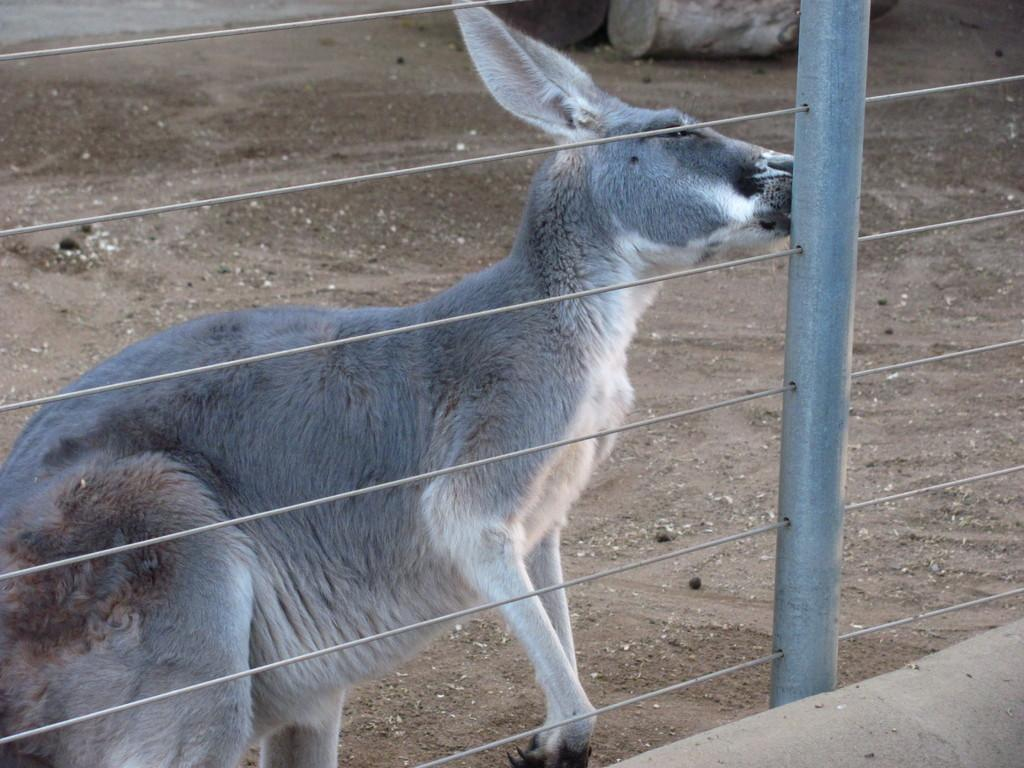kangaroo: (0, 0, 797, 767)
